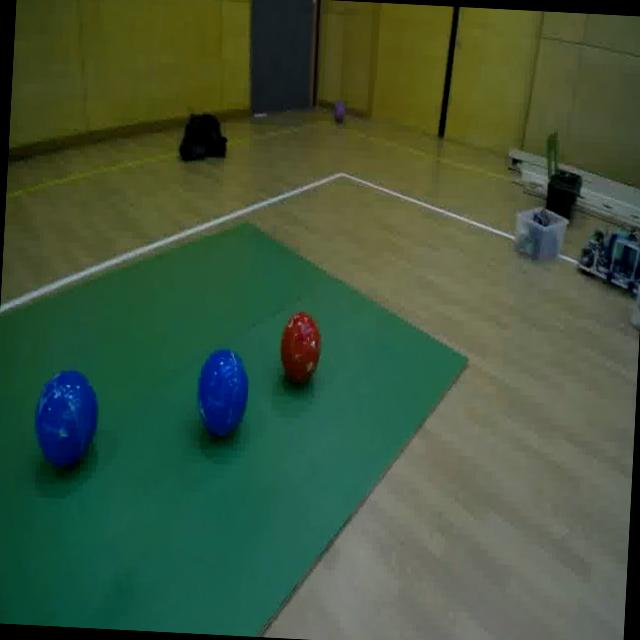blue_ball: (31, 359, 104, 472), (190, 344, 253, 443)
purple_ball: (331, 95, 349, 128)
red_ball: (276, 300, 324, 390)
